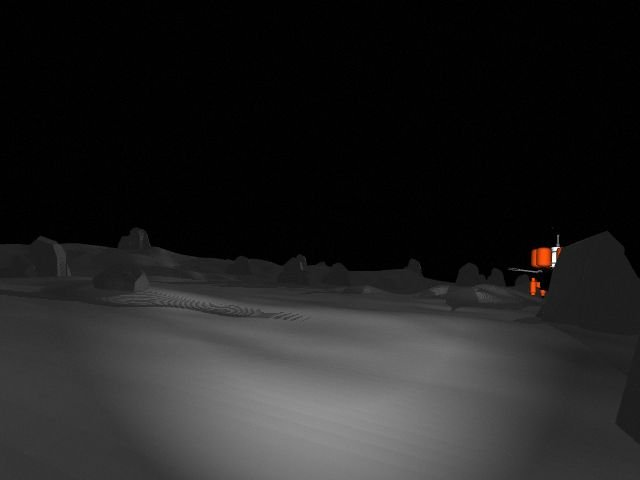homebase: (506, 230, 609, 301)
